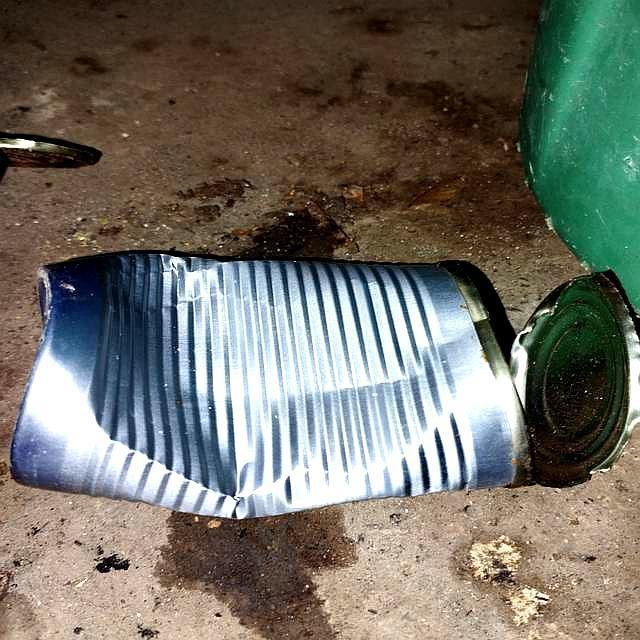Non-biodegradable: (9, 251, 635, 525)
